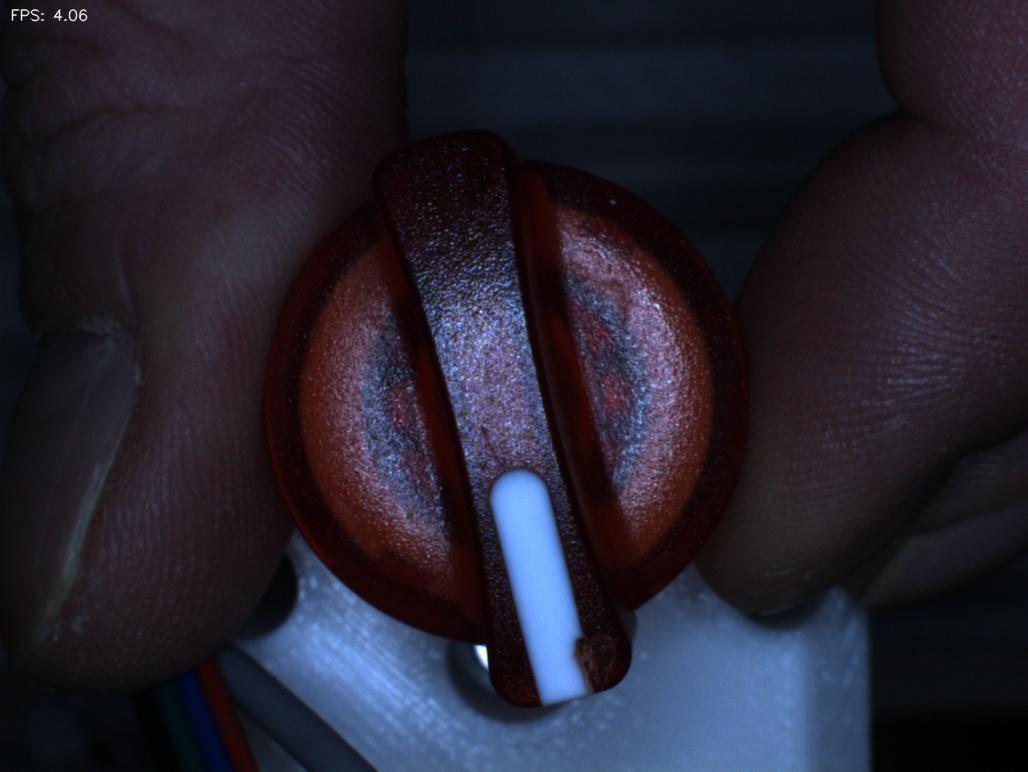Choc: (553, 597, 664, 722)
